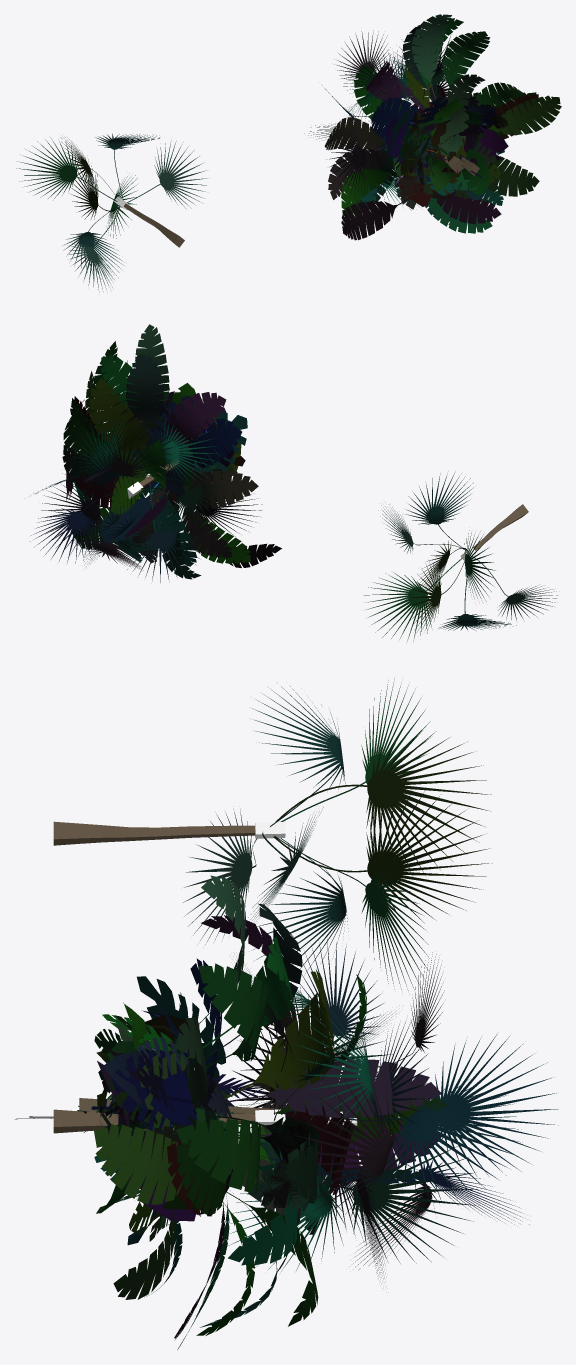
Rendered from Small Foliage.fbx.
The picture shows the model from 3 angles, top to bottom: view 1: azimuth 30°, elevation 25°; view 2: azimuth 150°, elevation 25°; view 3: azimuth 270°, elevation 25°; orthographic projection. The views are drawn at different scales.
Visible parts, largest first — view 1: Palm Fern 2, Ground Palm 2, Ground Palm 3, Ground Palm 4, Ground Palm 1, Ground Palm 5, Palm Fern 1, Fig Plant 8, Palm Fern 3, Fig Plant 5, Monstera Plant 4, Ground Fern 1 (+8 smaller); view 2: Palm Fern 1, Ground Palm 2, Ground Palm 5, Palm Fern 2, Ground Palm 1, Palm Fern 3, Ground Palm 3, Ground Palm 4, Monstera Plant 4, Fig Plant 4, Fig Plant 8, Fig Plant 7 (+1 smaller); view 3: Palm Fern 2, Ground Palm 3, Palm Fern 1, Palm Fern 3, Ground Palm 5, Ground Palm 2, Ground Palm 4, Ground Palm 1, Monstera Plant 4, Fig Plant 6, Fig Plant 8, Monstera Plant 7 (+4 smaller).
Boxes of the visible parts, left/top/right/bottom form: Palm Fern 2: left=16, top=133, right=209, bottom=292; Ground Palm 2: left=328, top=22, right=561, bottom=240; Ground Palm 3: left=391, top=14, right=524, bottom=224; Ground Palm 4: left=368, top=31, right=539, bottom=233; Ground Palm 1: left=341, top=18, right=538, bottom=219; Ground Palm 5: left=324, top=34, right=536, bottom=213; Palm Fern 1: left=304, top=34, right=479, bottom=210; Fig Plant 8: left=393, top=105, right=508, bottom=206; Palm Fern 3: left=322, top=30, right=471, bottom=179; Fig Plant 5: left=415, top=106, right=468, bottom=195; Monstera Plant 4: left=388, top=106, right=495, bottom=192; Ground Fern 1: left=430, top=133, right=477, bottom=191; Palm Fern 1: left=40, top=360, right=262, bottom=582; Ground Palm 2: left=62, top=354, right=281, bottom=568; Ground Palm 5: left=70, top=377, right=258, bottom=579; Palm Fern 2: left=364, top=473, right=557, bottom=641; Ground Palm 1: left=74, top=354, right=250, bottom=566; Palm Fern 3: left=30, top=436, right=232, bottom=570; Ground Palm 3: left=63, top=324, right=170, bottom=508; Ground Palm 4: left=71, top=341, right=169, bottom=552; Monstera Plant 4: left=147, top=399, right=247, bottom=504; Fig Plant 4: left=151, top=383, right=195, bottom=506; Fig Plant 8: left=129, top=400, right=216, bottom=504; Fig Plant 7: left=107, top=391, right=241, bottom=477; Palm Fern 2: left=53, top=679, right=492, bottom=990; Ground Palm 3: left=84, top=875, right=441, bottom=1339; Palm Fern 1: left=53, top=935, right=478, bottom=1281; Palm Fern 3: left=79, top=952, right=558, bottom=1269; Ground Palm 5: left=77, top=969, right=442, bottom=1335; Ground Palm 2: left=84, top=903, right=440, bottom=1327; Ground Palm 4: left=78, top=963, right=446, bottom=1349; Ground Palm 1: left=15, top=915, right=319, bottom=1271; Monstera Plant 4: left=91, top=976, right=225, bottom=1229; Fig Plant 6: left=141, top=1070, right=197, bottom=1126; Fig Plant 8: left=96, top=1031, right=229, bottom=1213; Monstera Plant 7: left=94, top=1037, right=205, bottom=1234.
Size of the model in its own units: 3010 by 1361 by 1526.
